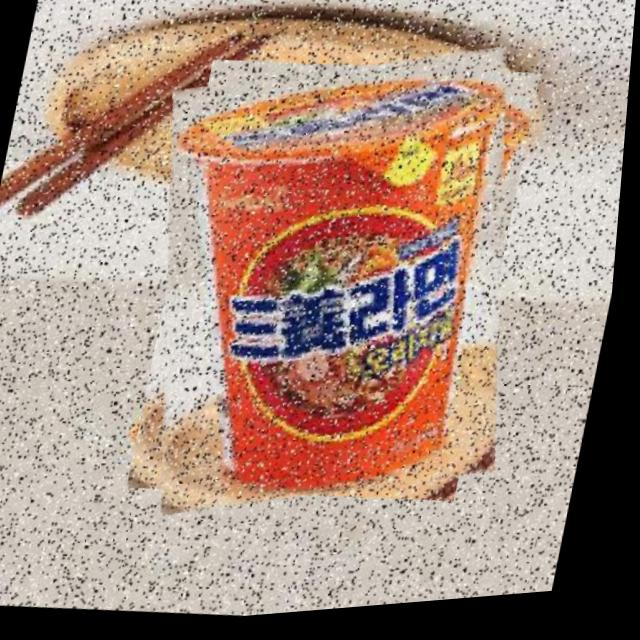Miscellaneous: (110, 24, 564, 547)
